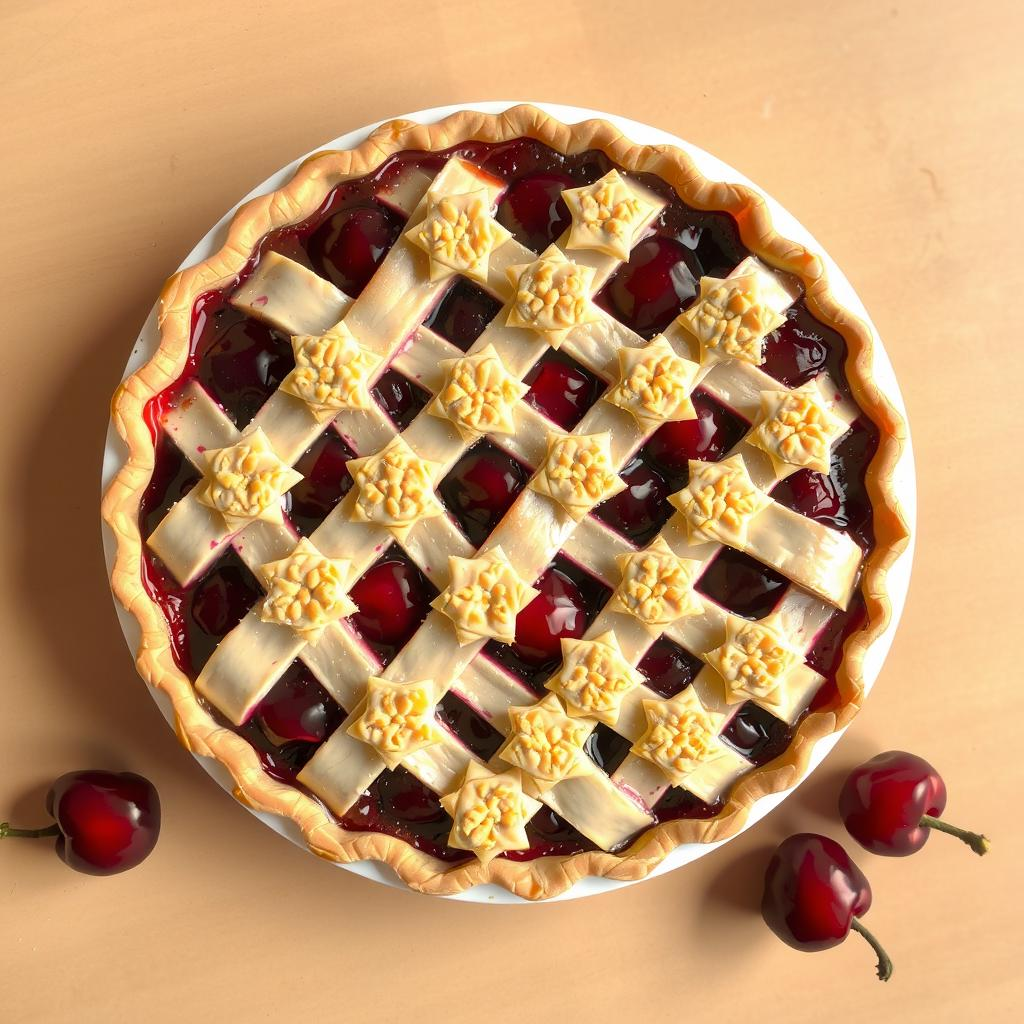pie: (96, 104, 920, 913)
